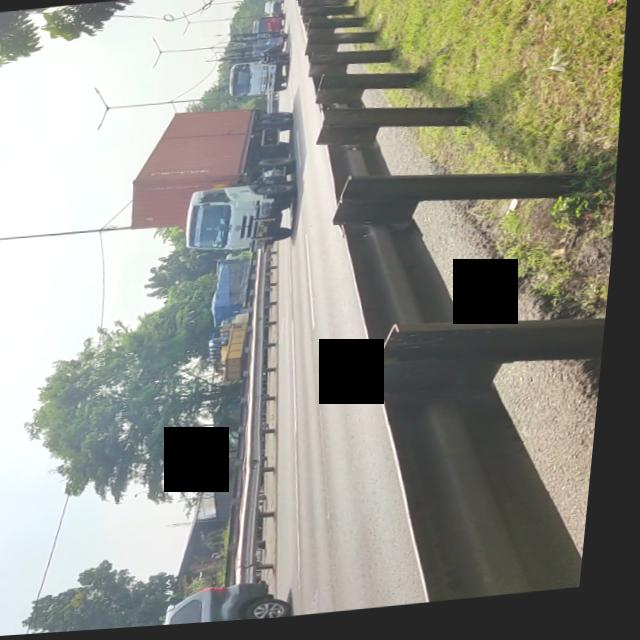Golongan IV: (135, 104, 313, 266)
